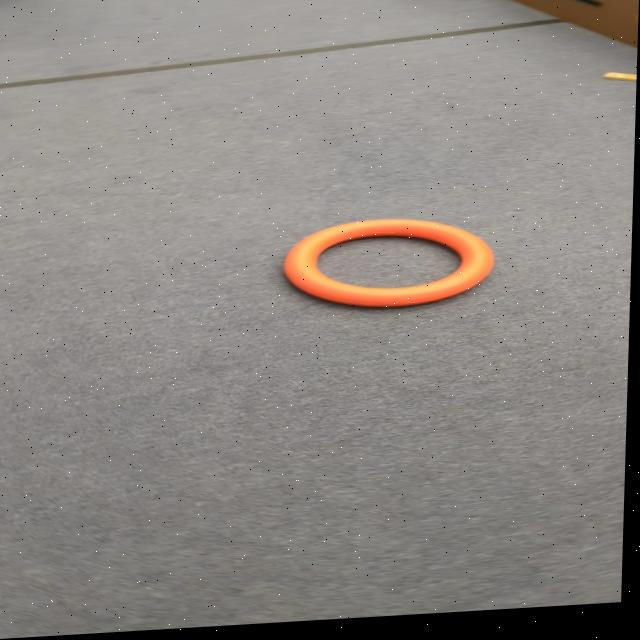note: (286, 216, 501, 313)
